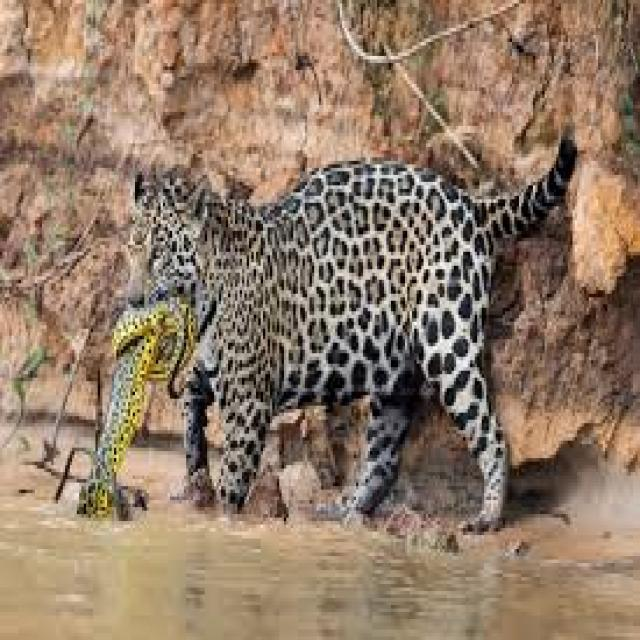Jaguar: (114, 102, 587, 535)
